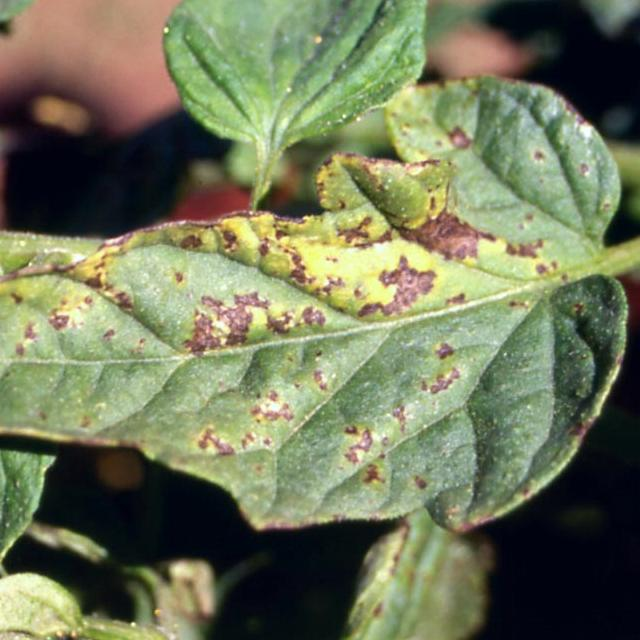Tomato leaf bacterial spot: (0, 80, 640, 540), (146, 0, 463, 195)
